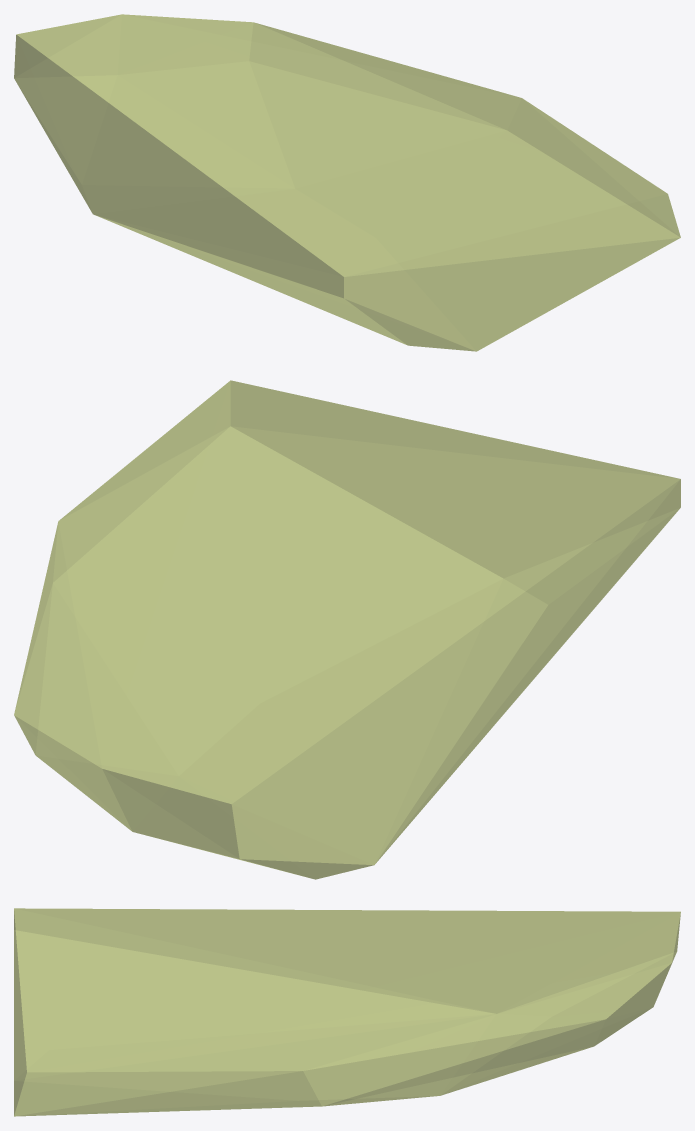
3 views of the same model, one above another, from view 1: azimuth 30°, elevation 25°; view 2: azimuth 150°, elevation 25°; view 3: azimuth 270°, elevation 25° (orthographic). The views are drawn at different scales.
Visible parts, largest first — view 1: Shape_IndexedFaceSet.002_Shape_IndexedFaceSet.9049; view 2: Shape_IndexedFaceSet.002_Shape_IndexedFaceSet.9049; view 3: Shape_IndexedFaceSet.002_Shape_IndexedFaceSet.9049.
Part boxes in pixels (box(x1,y1,x2,y2)): Shape_IndexedFaceSet.002_Shape_IndexedFaceSet.9049: box(14, 14, 680, 351); Shape_IndexedFaceSet.002_Shape_IndexedFaceSet.9049: box(14, 380, 680, 879); Shape_IndexedFaceSet.002_Shape_IndexedFaceSet.9049: box(14, 908, 680, 1116).
Size of the model in its own units: 0.2221 by 0.0673 by 0.3671.
